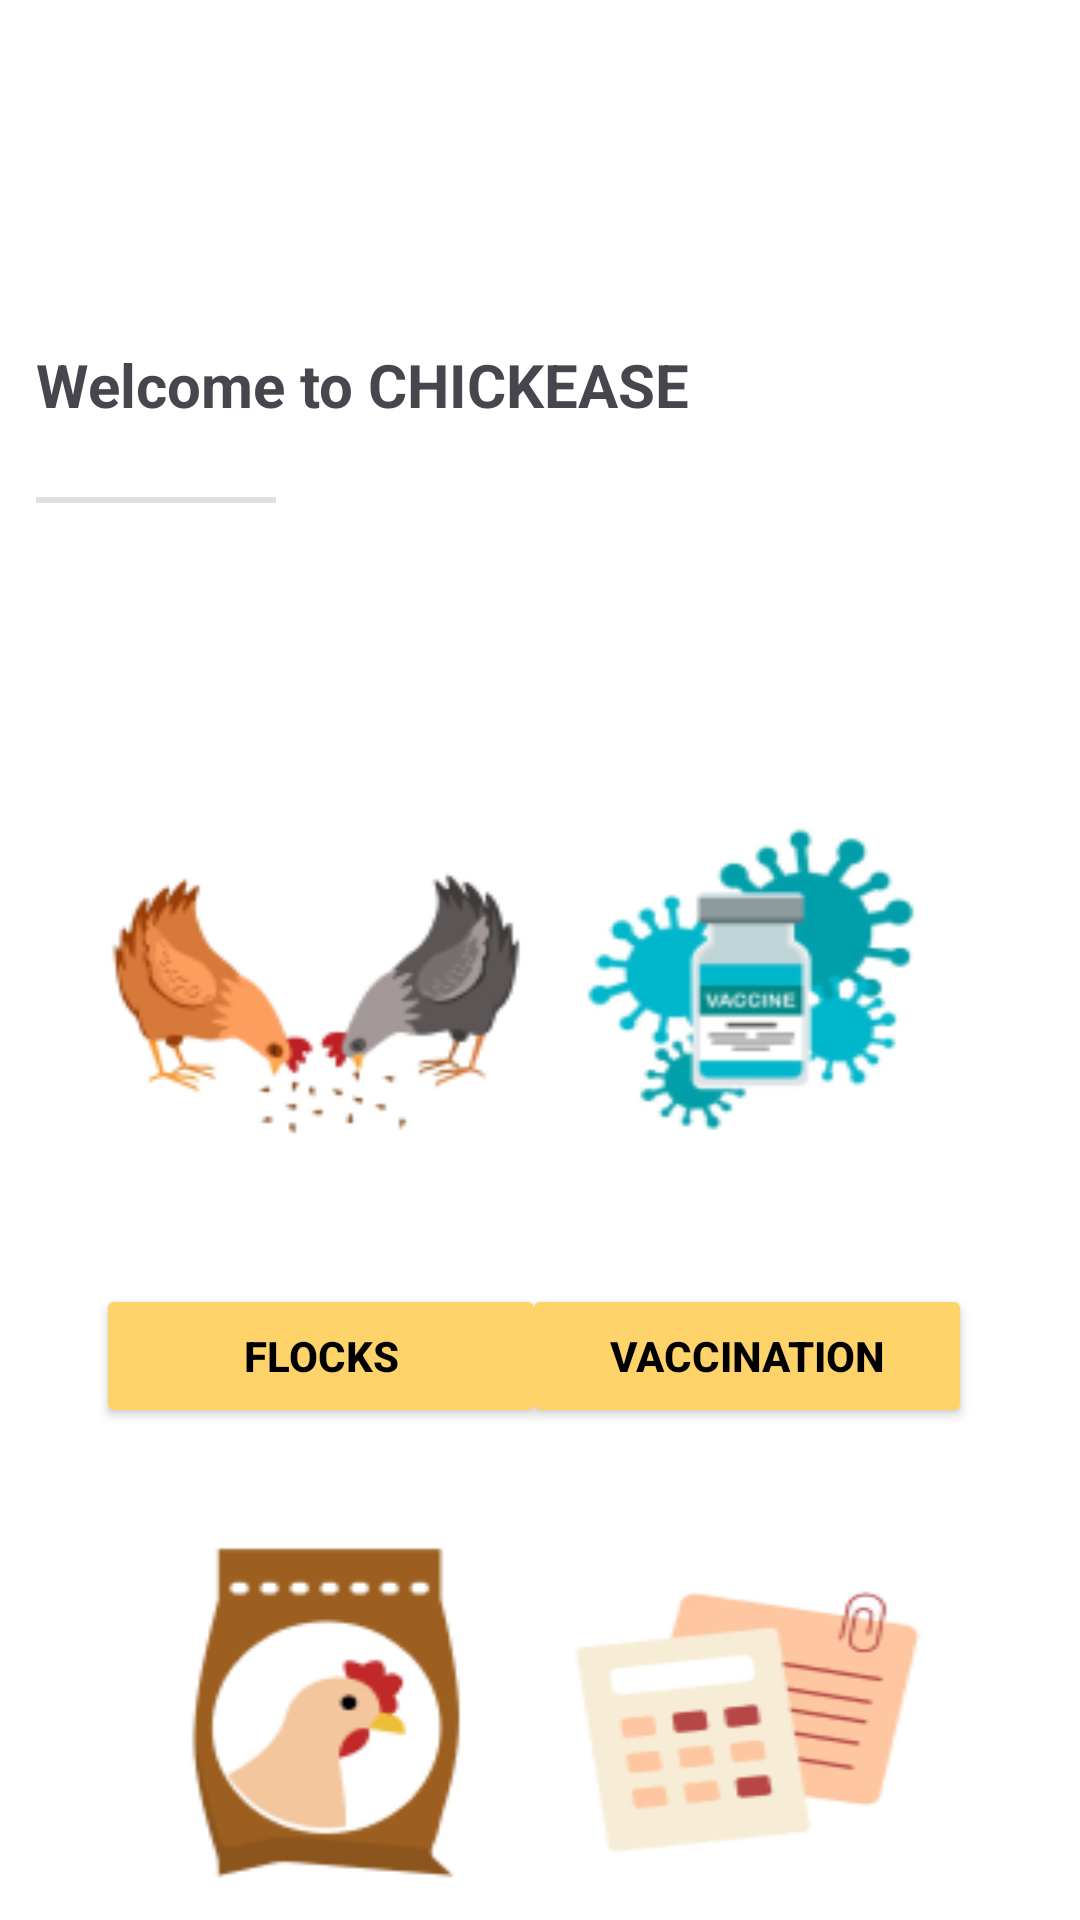

Point at icon controls on the screen. Image size 1080px×1920px, points as (x=x, y=y).
feeds: (x=326, y=1713)
records: (x=748, y=1721)
